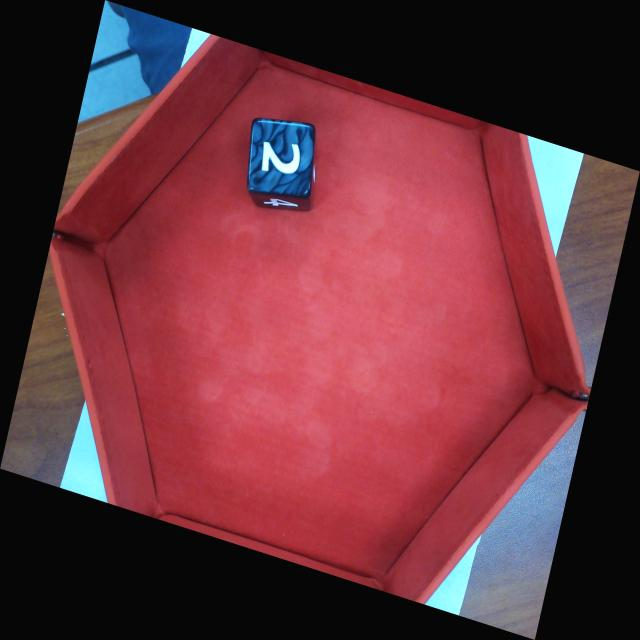dice: (245, 117, 316, 199)
